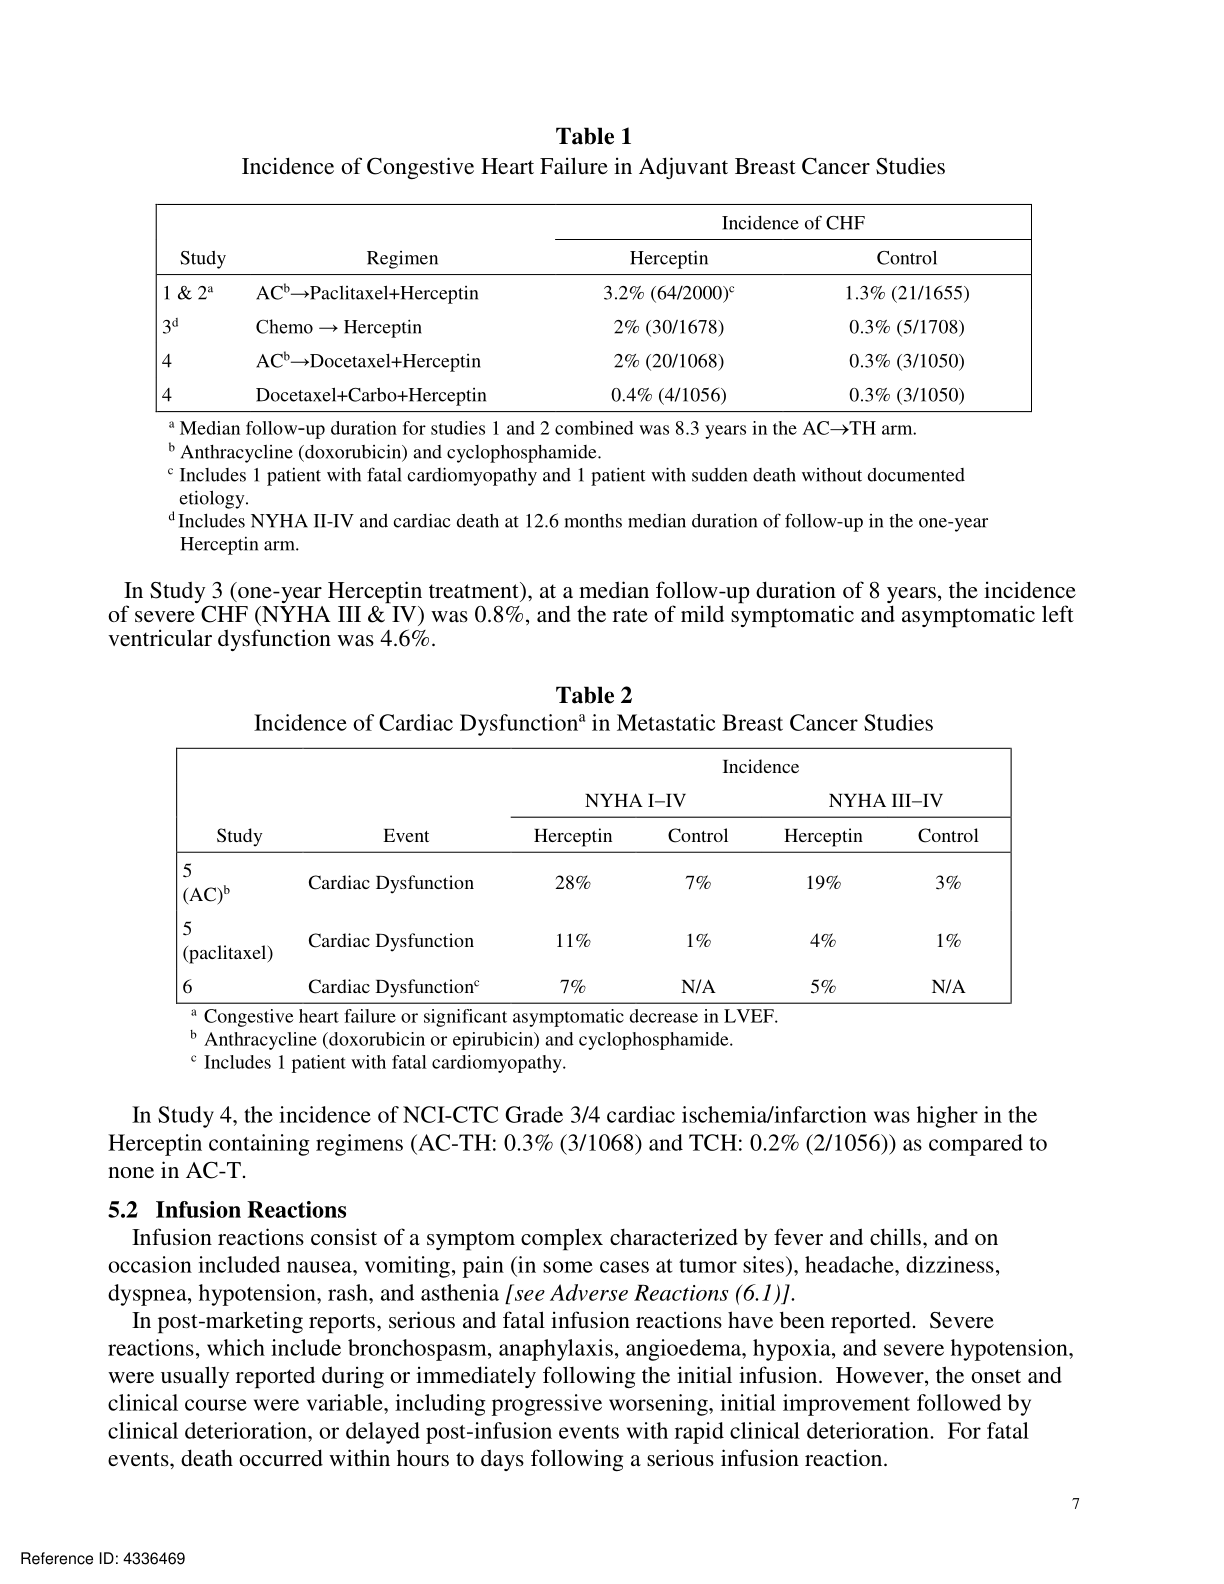partial_lined_merged_cells: (174, 746, 1012, 1005), (154, 202, 1032, 413)
